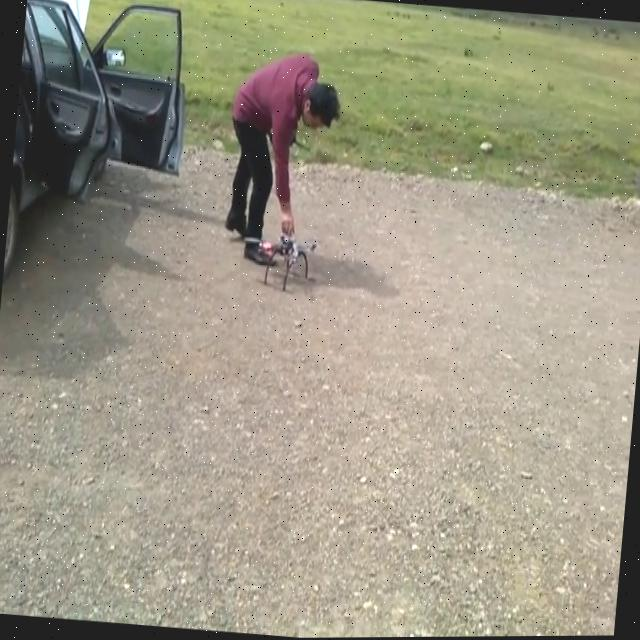drone: (241, 225, 320, 288)
